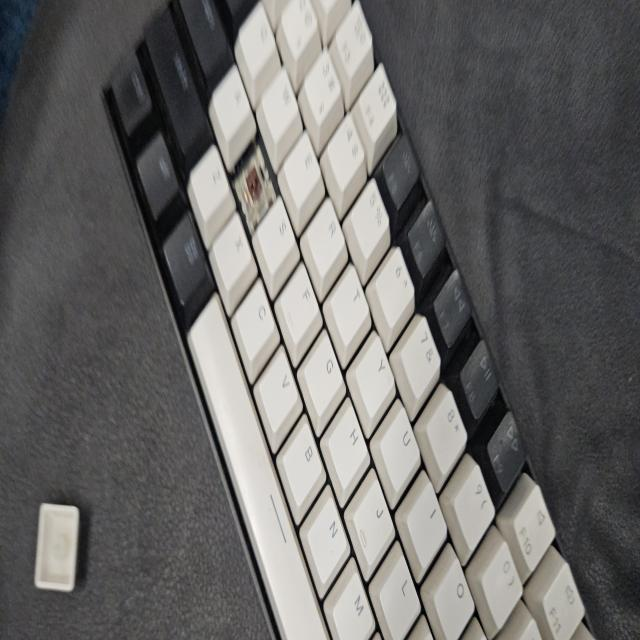C: (241, 154, 267, 219)
